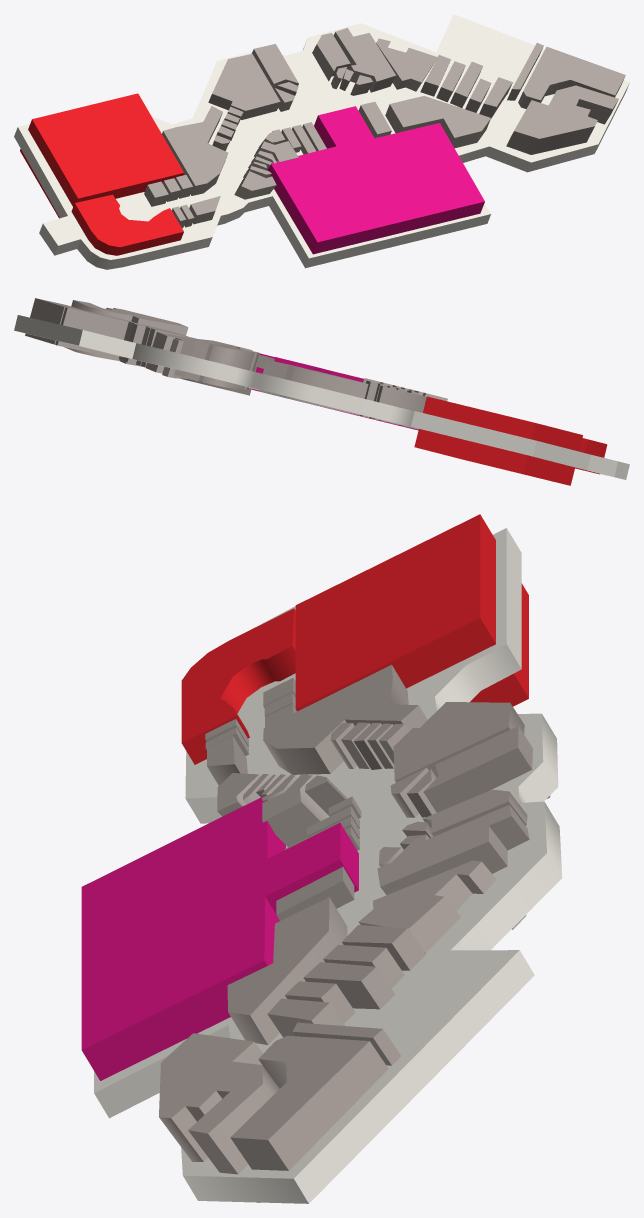
The picture shows the model from 3 angles, top to bottom: view 1: azimuth 30°, elevation 25°; view 2: azimuth 150°, elevation 25°; view 3: azimuth 270°, elevation 25°; orthographic projection. The views are drawn at different scales.
Parts seen in each view (by area): view 1: mesh_id162, mesh_id160, mesh_id83, mesh_id102, mesh_id158, mesh_id100, mesh_id110, mesh_id86, mesh_id144, mesh_id106, mesh_id108, mesh_id150 (+12 smaller); view 2: mesh_id162, mesh_id83, mesh_id98, mesh_id144, mesh_id102, mesh_id104, mesh_id100, mesh_id110, mesh_id106, mesh_id108, mesh_id160, mesh_id150 (+2 smaller); view 3: mesh_id162, mesh_id160, mesh_id83, mesh_id100, mesh_id102, mesh_id158, mesh_id110, mesh_id86, mesh_id106, mesh_id108, mesh_id144, mesh_id150 (+11 smaller).
Boxes of the visible parts, box(x1,y1,x2,y2) form: mesh_id162: box(14, 14, 629, 269); mesh_id160: box(267, 106, 484, 254); mesh_id83: box(20, 93, 184, 218); mesh_id102: box(506, 85, 618, 154); mesh_id158: box(71, 194, 183, 255); mesh_id100: box(518, 46, 625, 108); mesh_id110: box(162, 106, 228, 195); mesh_id86: box(385, 96, 490, 148); mesh_id144: box(208, 54, 280, 119); mesh_id106: box(333, 28, 396, 92); mesh_id108: box(376, 38, 437, 91); mesh_id150: box(251, 44, 298, 89); mesh_id162: box(14, 315, 629, 479); mesh_id83: box(414, 396, 582, 485); mesh_id98: box(55, 307, 134, 358); mesh_id144: box(287, 366, 368, 415); mesh_id102: box(64, 300, 188, 366); mesh_id104: box(202, 345, 255, 389); mesh_id100: box(25, 298, 133, 344); mesh_id110: box(372, 385, 426, 429); mesh_id106: box(174, 337, 239, 381); mesh_id108: box(145, 332, 188, 378); mesh_id160: box(251, 353, 418, 430); mesh_id150: box(258, 360, 308, 397); mesh_id162: box(94, 528, 562, 1203); mesh_id160: box(81, 795, 358, 1080); mesh_id83: box(295, 514, 528, 711); mesh_id100: box(230, 1035, 388, 1170); mesh_id102: box(159, 1033, 279, 1202); mesh_id158: box(181, 608, 295, 764); mesh_id110: box(263, 664, 427, 774); mesh_id86: box(227, 897, 347, 1044); mesh_id106: box(377, 805, 529, 894); mesh_id108: box(358, 860, 526, 953); mesh_id144: box(393, 702, 524, 782); mesh_id150: box(423, 726, 550, 812).
Bounding box in the file's own units: 1.35 × 0.2908 × 0.4793.
47 materials, 47 textured.
